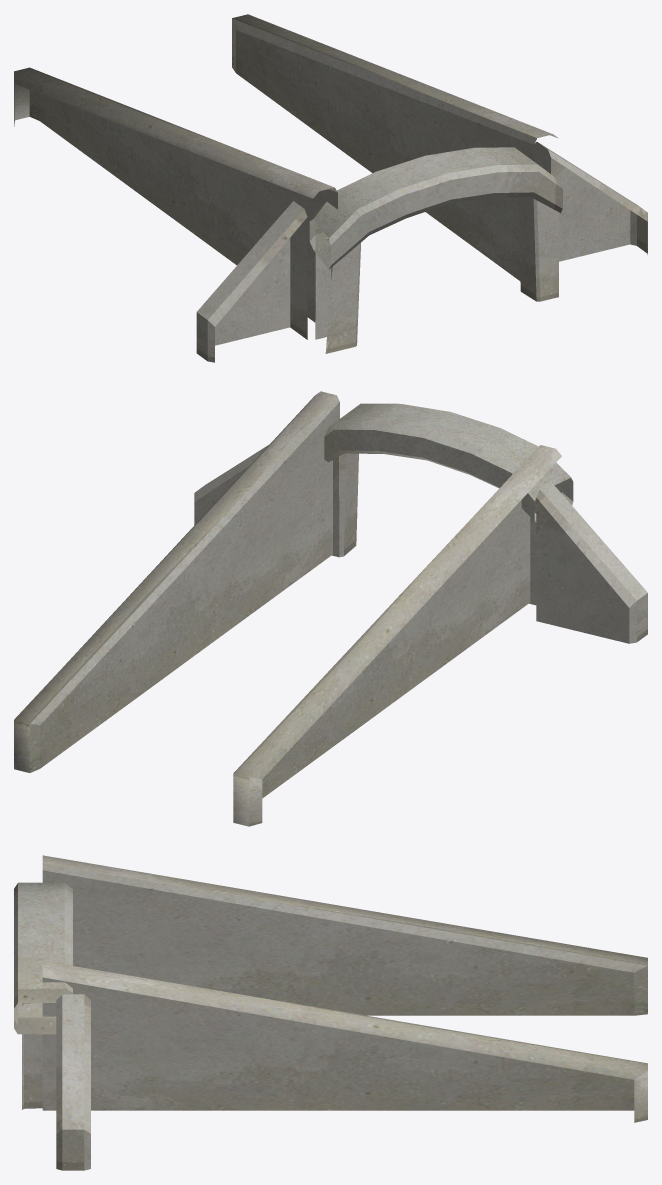
The model's file is tunnel_in.fbx.
3 views of the same model, one above another, from view 1: azimuth 30°, elevation 25°; view 2: azimuth 150°, elevation 25°; view 3: azimuth 270°, elevation 25° (orthographic).
Parts seen in each view (by area): view 1: tunnel_in; view 2: tunnel_in; view 3: tunnel_in.
Boxes of the visible parts, x1,y1,x2,y2 form: tunnel_in: (14, 14, 647, 362); tunnel_in: (14, 391, 647, 826); tunnel_in: (14, 855, 647, 1170).
Size of the model in its own units: 4295 by 1437 by 5402.
